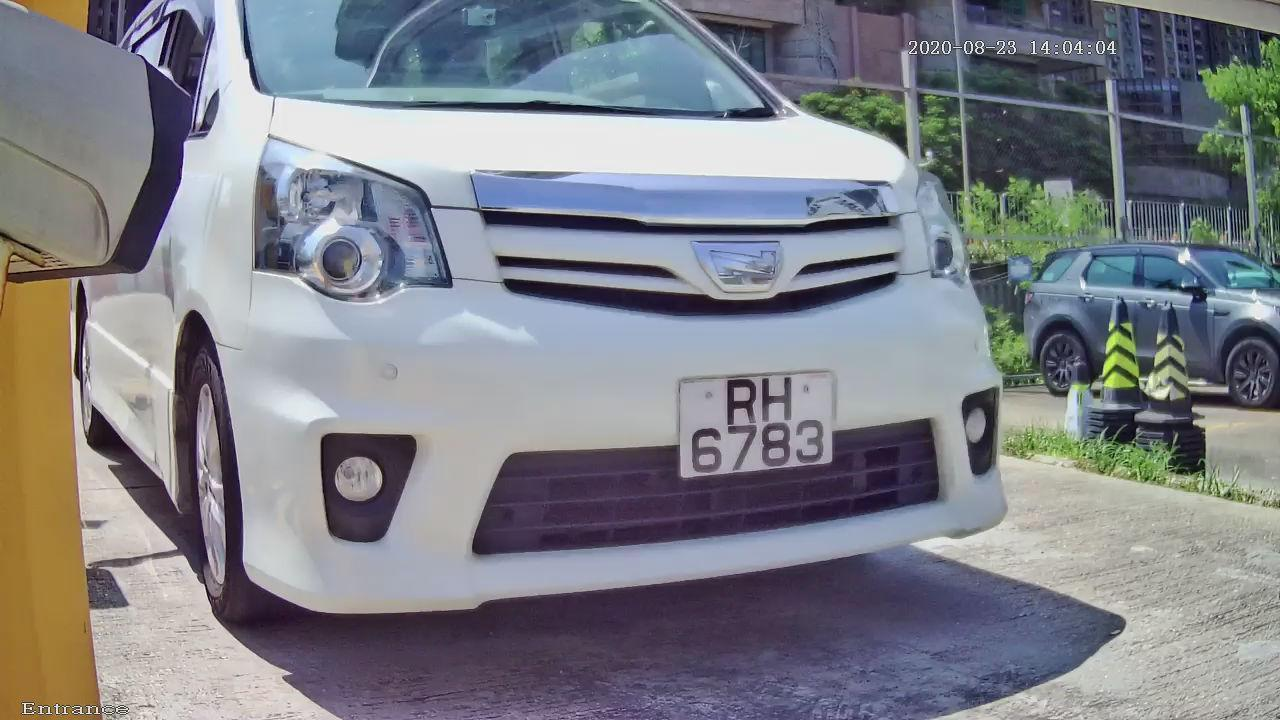Car: (63, 1, 1069, 679)
License Plate: (658, 351, 852, 492)
